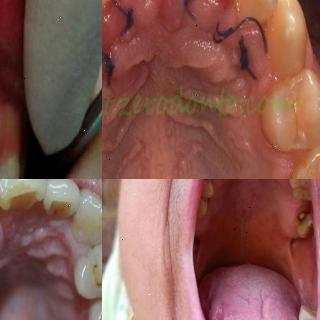maligned: (229, 0, 276, 38), (0, 220, 18, 284)
